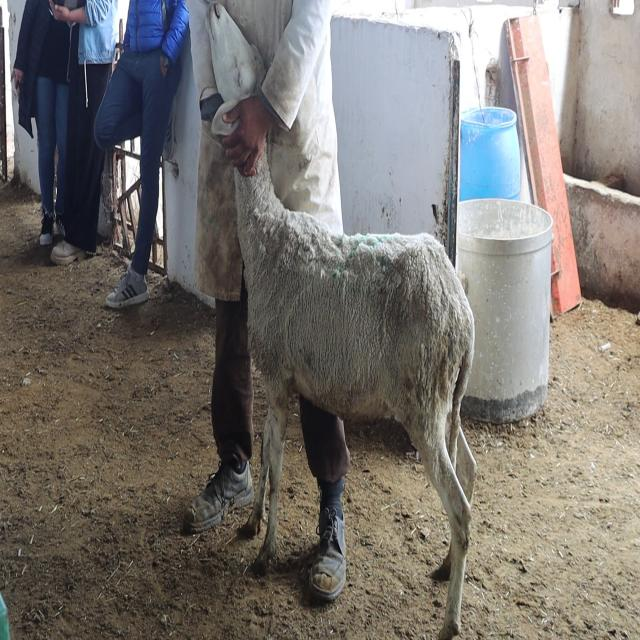Score_1: (233, 143, 476, 639)
